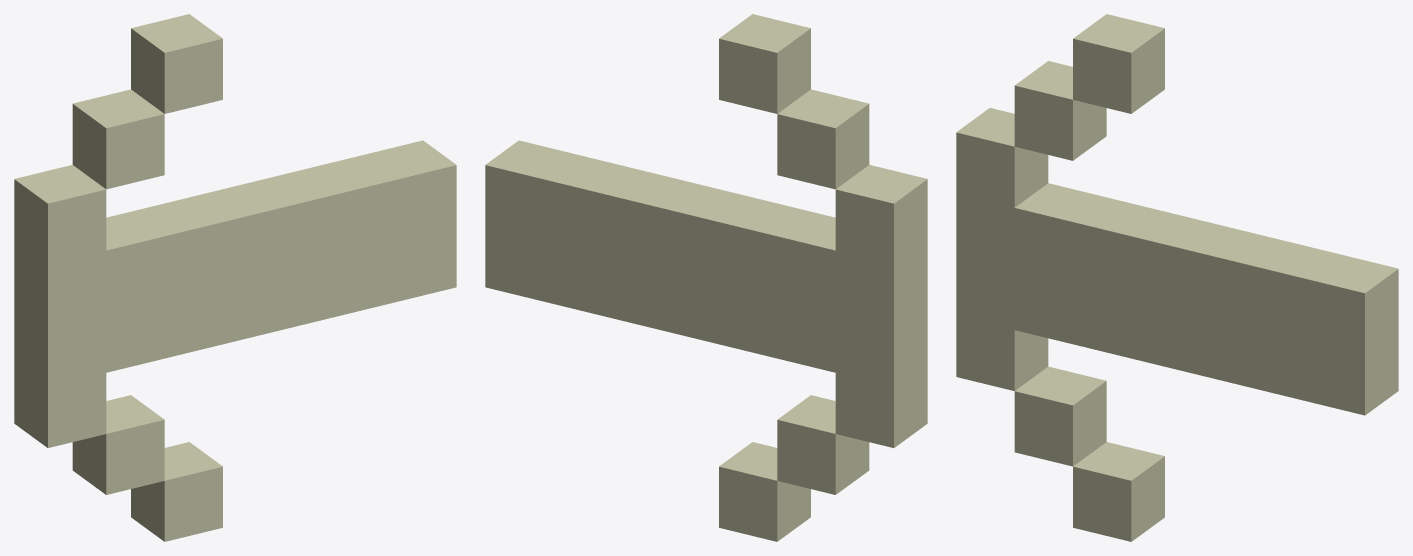
The model's file is Crossbow-Tan.vox.obj.
3 renders of one model, left to right at view 1: azimuth 30°, elevation 25°; view 2: azimuth 150°, elevation 25°; view 3: azimuth 330°, elevation 25°, orthographic.
Bounding box in the file's own units: 0.7 × 0.8 × 0.1.
1 material, 1 textured.
